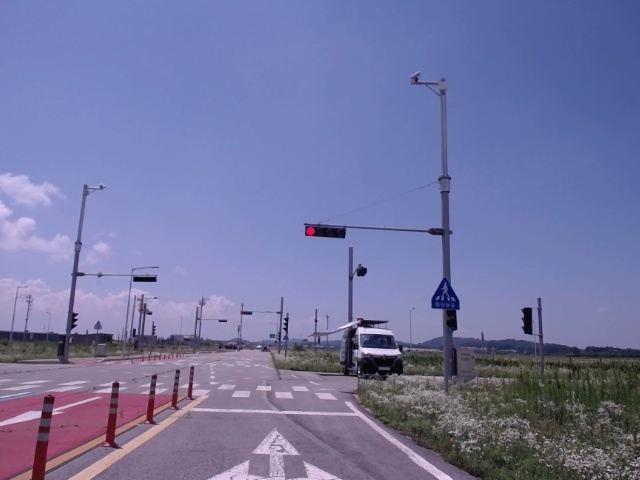red_4: (305, 226, 346, 238)
